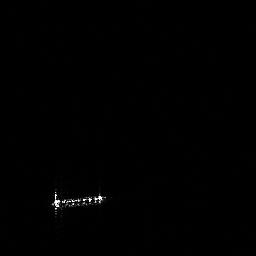ship: (53, 194, 104, 208)
